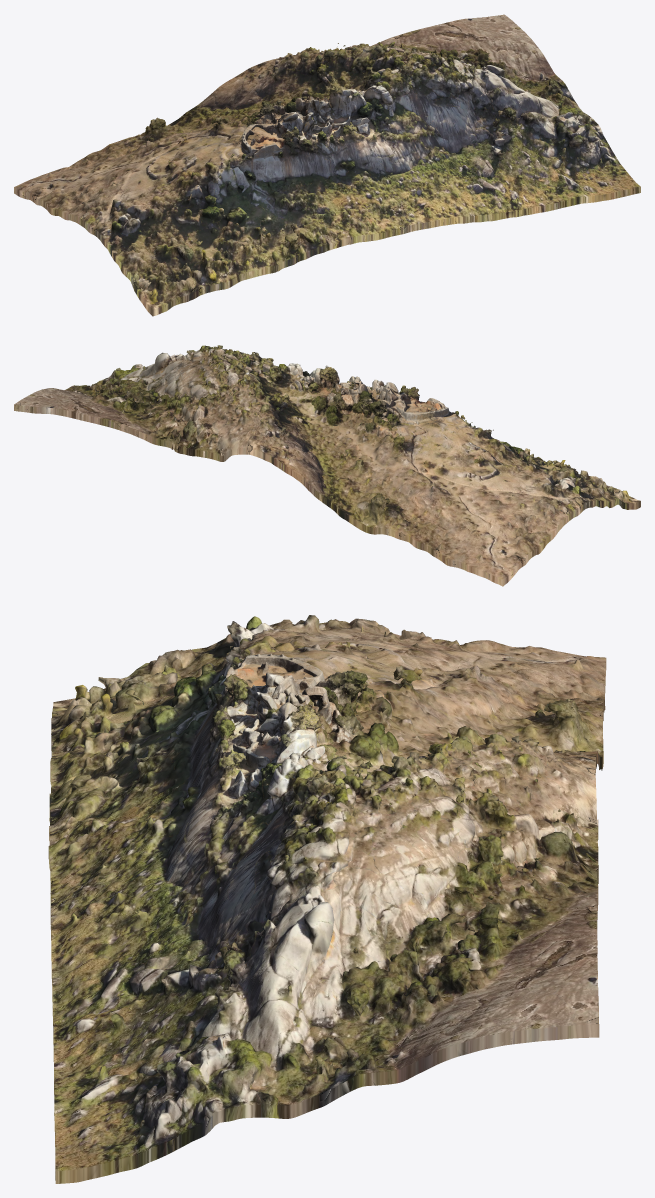
The model's file is colline-telephone.glb.
3 views of the same model, one above another, from view 1: azimuth 30°, elevation 25°; view 2: azimuth 150°, elevation 25°; view 3: azimuth 270°, elevation 25° (orthographic). The views are drawn at different scales.
Parts seen in each view (by area): view 1: colline; view 2: colline; view 3: colline.
Boxes of the visible parts, bbox=[...] form: colline: bbox=[14, 14, 640, 316]; colline: bbox=[14, 345, 640, 586]; colline: bbox=[48, 615, 606, 1183].
Bounding box in the file's own units: 491 × 126 × 242.
3 materials, 3 textured.
